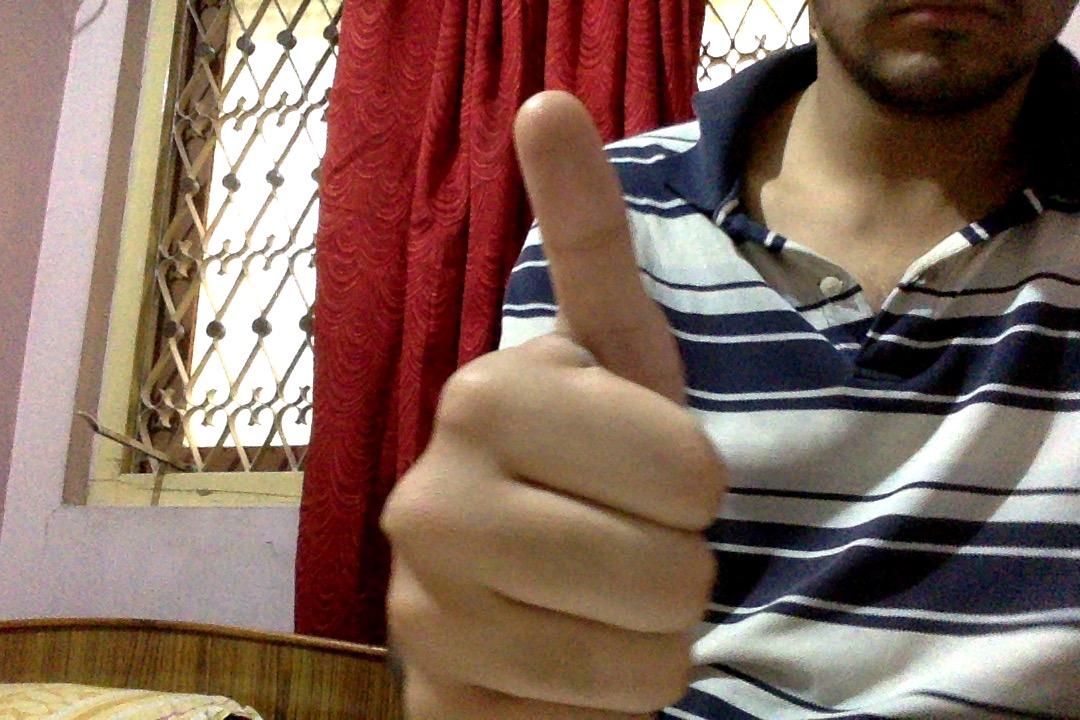hand: (306, 88, 774, 717)
